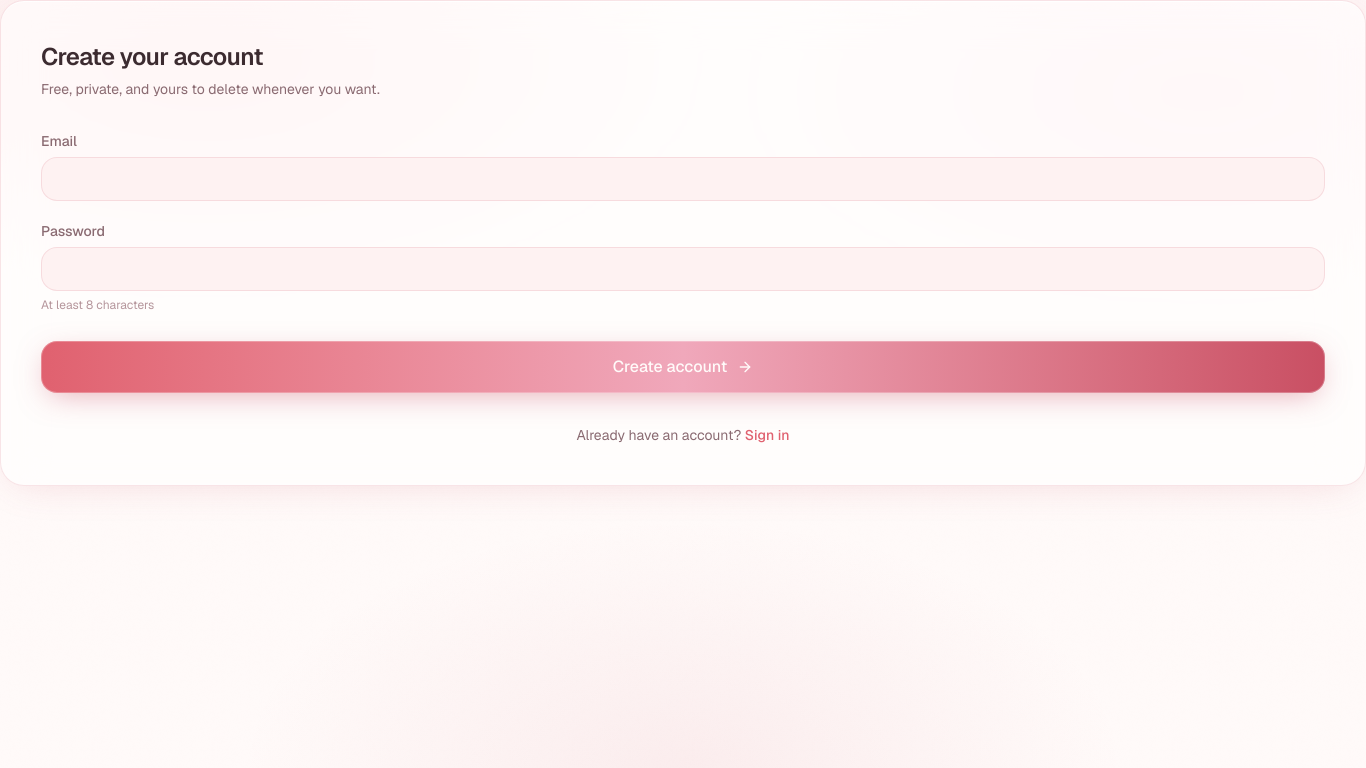
Test case: RegisterPage › shows an error message when registration fails
Type "dupe@example.com" into the field labelled "Email". click: x=683, y=179
box: [41,157,1325,201]
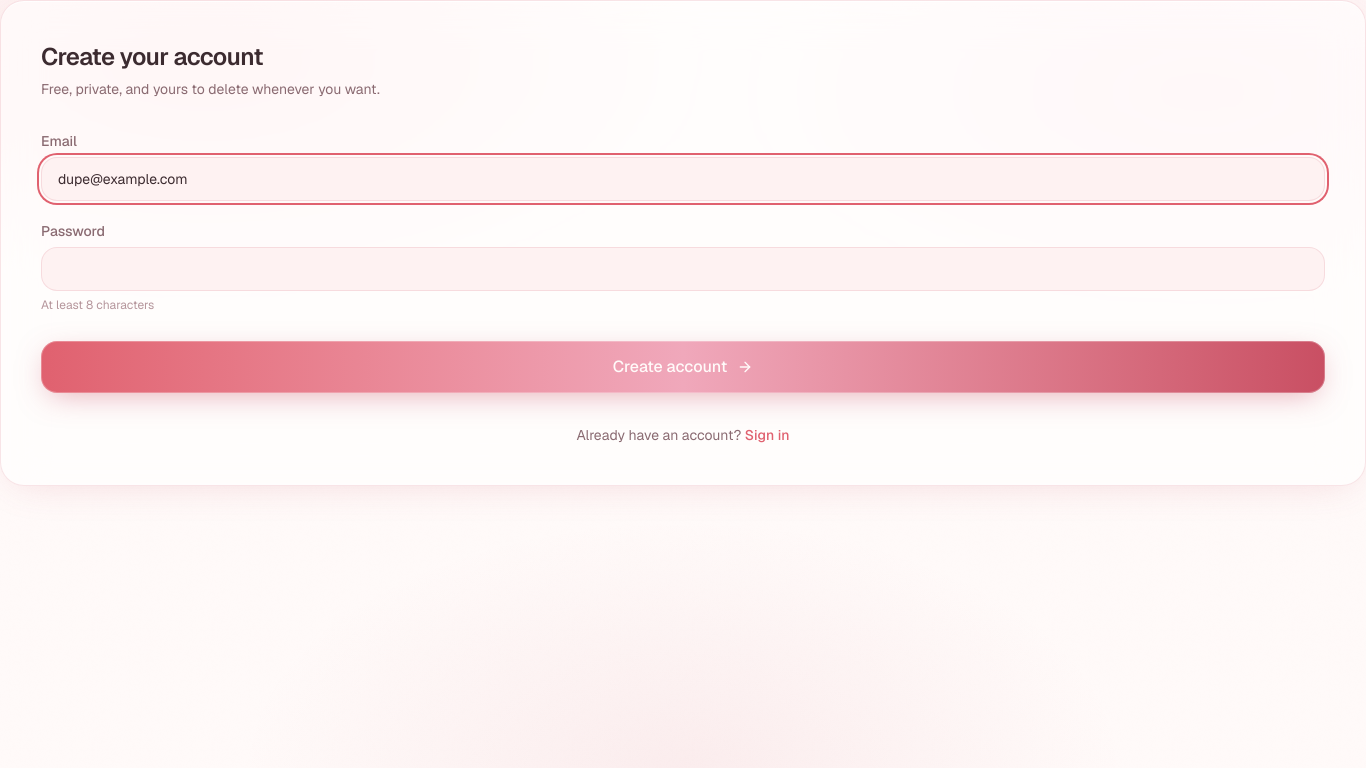
Type "supersecret1" into the password field labelled "Password". click: x=683, y=269
box: [41,247,1325,291]
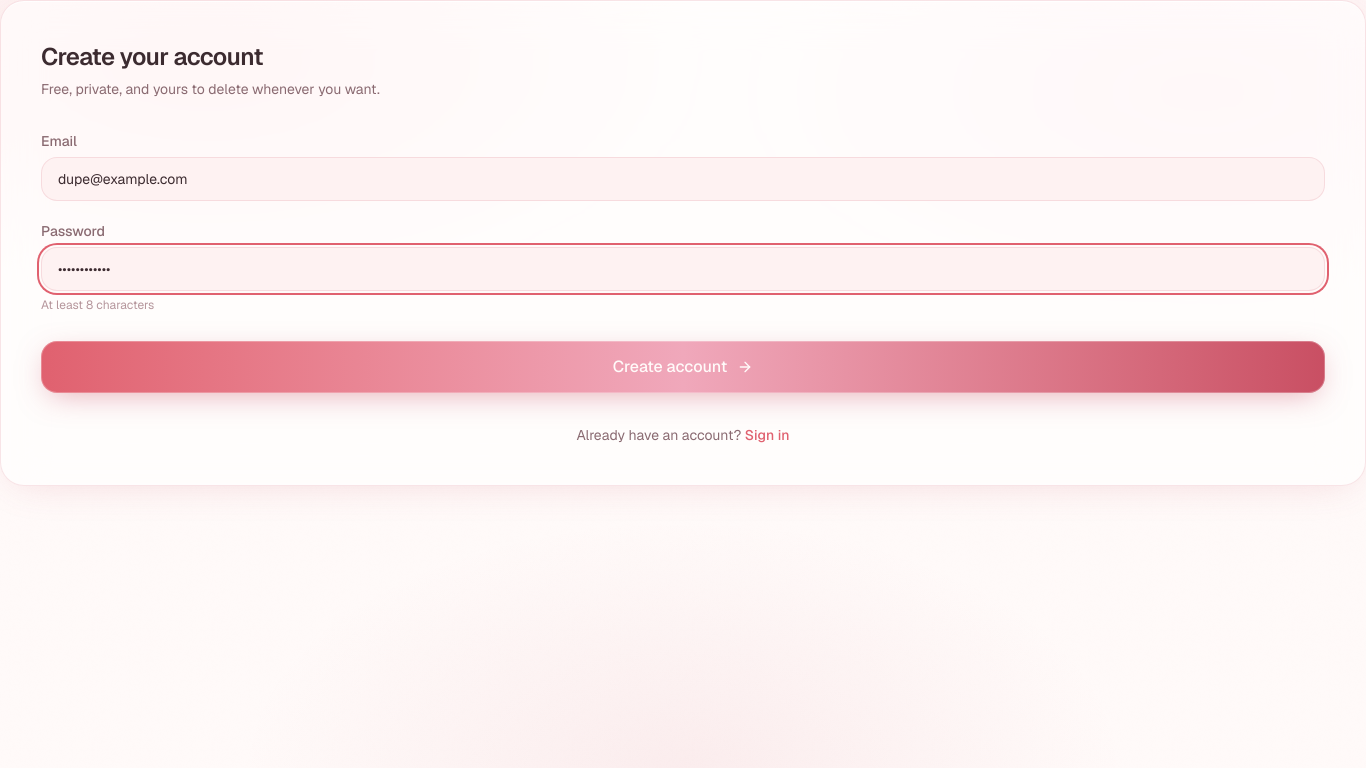
Click the button "Create account". click: x=683, y=367
box: [41,341,1325,393]
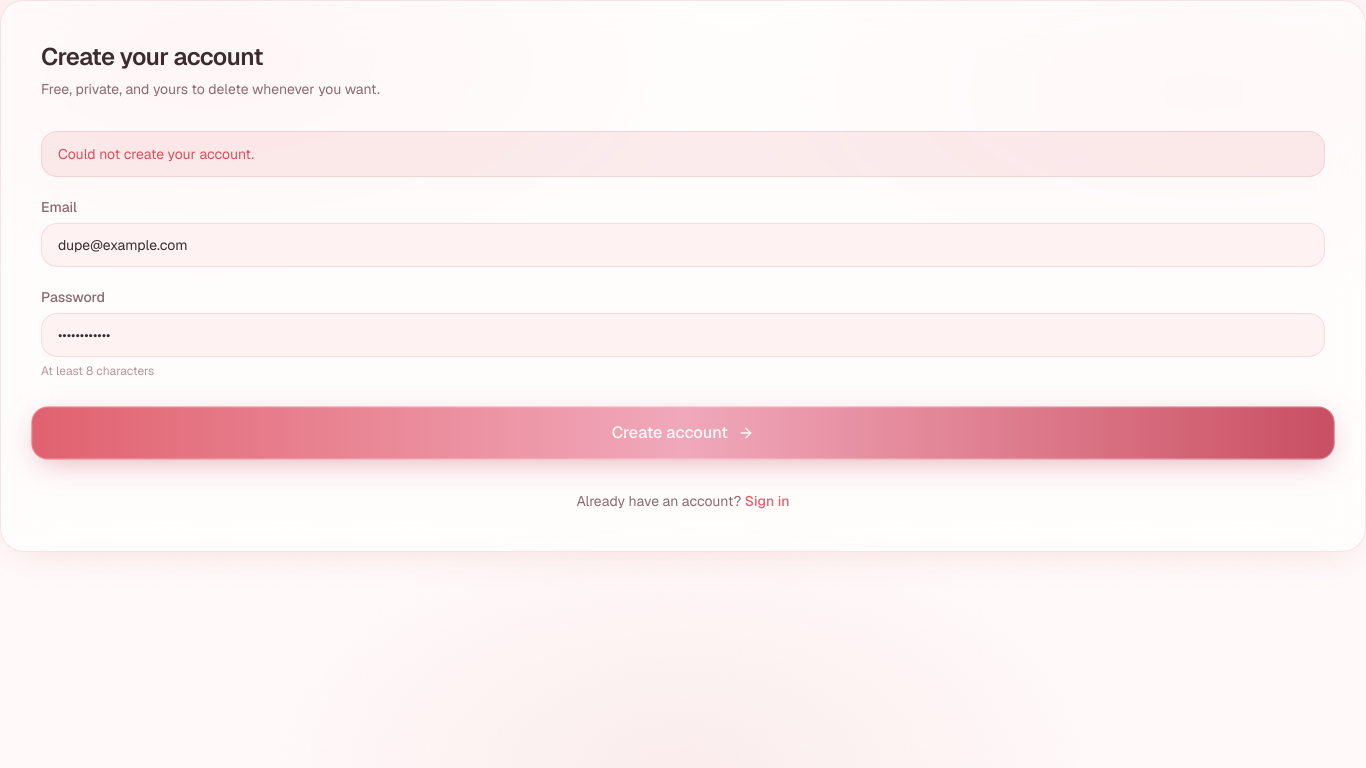
Check: the text "Could not create your account." is shown, box [41,131,1325,177]
